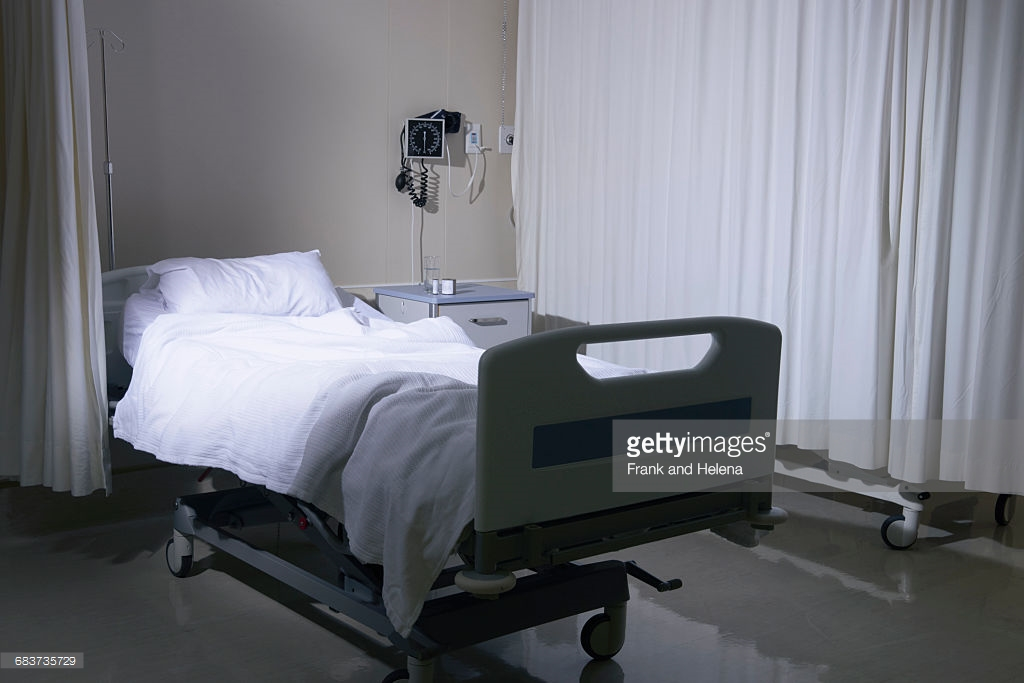hospital bed: (108, 227, 827, 534)
